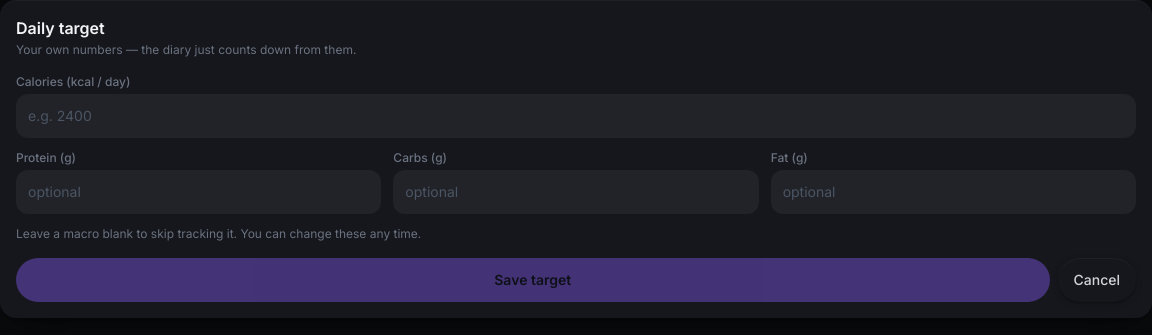
Test: TargetEditor › cannot be saved empty, non-numeric, zero, or past the typo ceiling
Expected: the button with test id "te-save" is disabled, [16,258,1050,302]
In the field with test id "te-kcal": (576,116) [16,94,1136,138], type "lots"
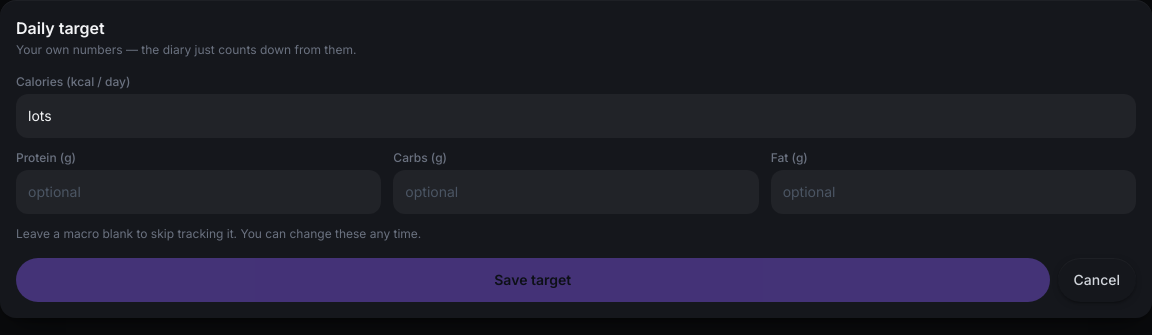
Expected: the button with test id "te-save" is disabled, [16,258,1050,302]
Replace the text in the field with test id "te-kcal" with "-100": (576,116) [16,94,1136,138]
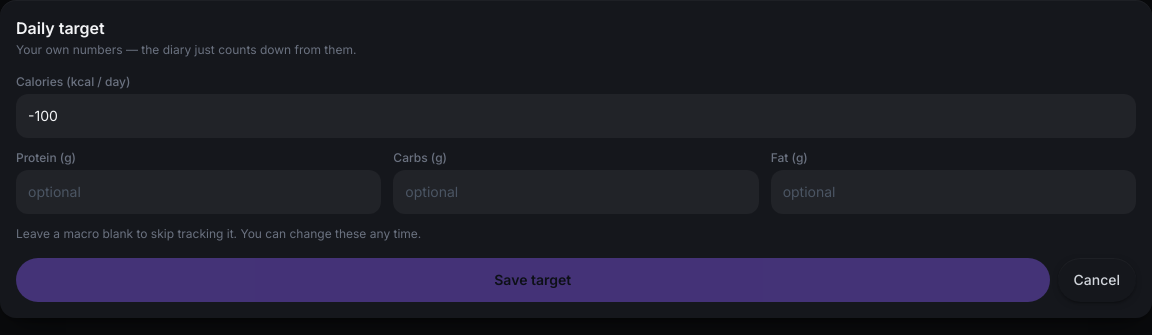
Expected: the button with test id "te-save" is disabled, [16,258,1050,302]
Replace the text in the field with test id "te-kcal" with "0": (576,116) [16,94,1136,138]
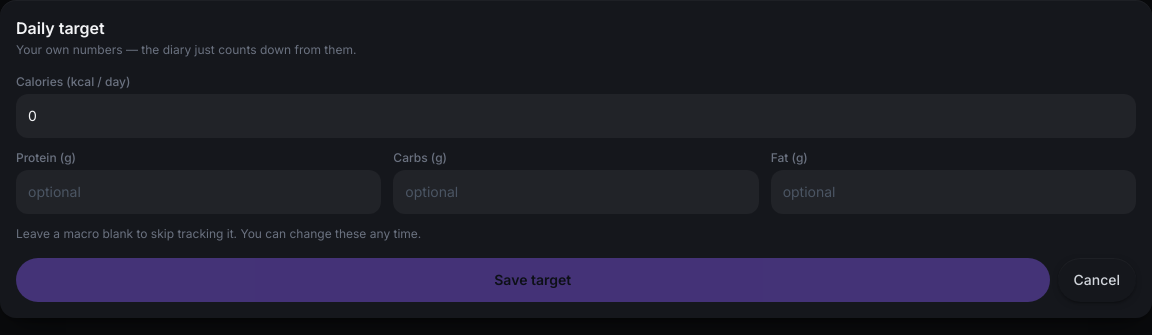
Expected: the button with test id "te-save" is disabled, [16,258,1050,302]
Replace the text in the field with test id "te-kcal" with "20001": (576,116) [16,94,1136,138]
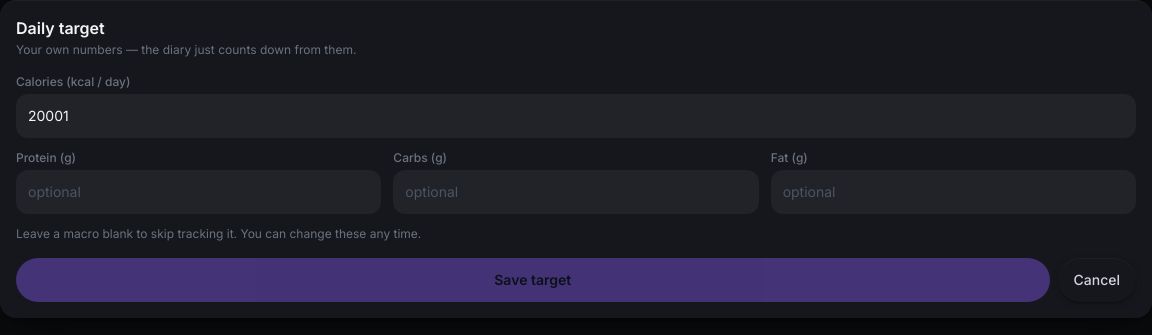
Expected: the button with test id "te-save" is disabled, [16,258,1050,302]
Replace the text in the field with test id "te-kcal" with "2400": (576,116) [16,94,1136,138]
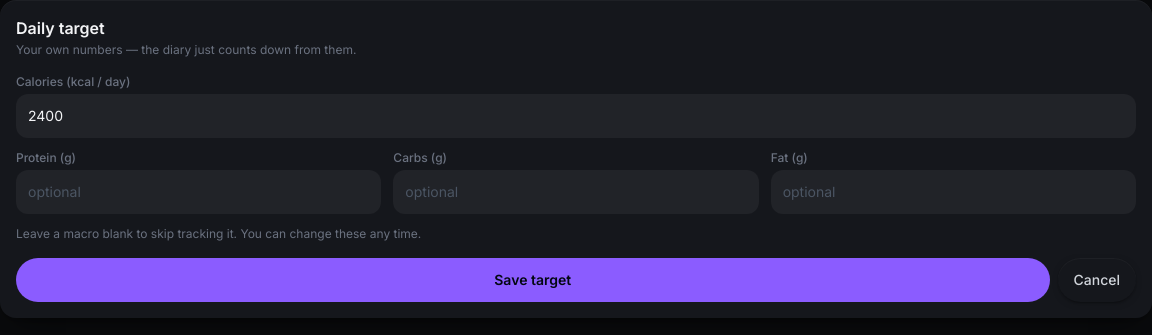
Expected: the button with test id "te-save" is enabled, [16,258,1050,302]
